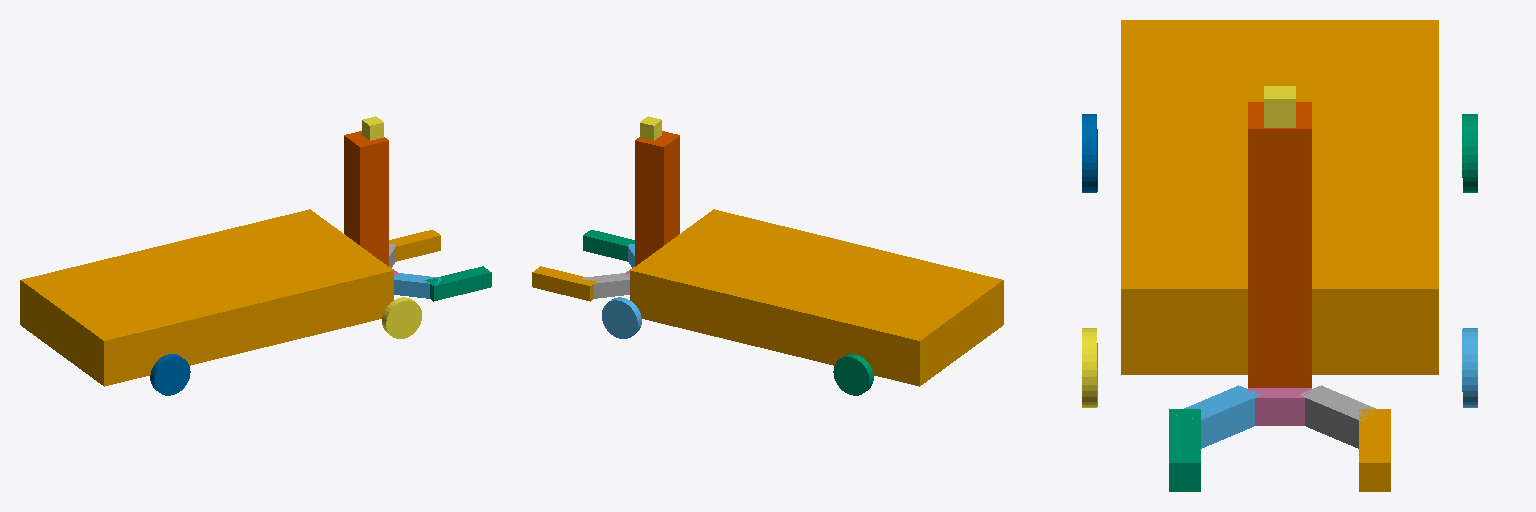
--- Facts derived from the render (not from the file) ---
3 views of the same robot in one strip: view 1: azimuth 30°, elevation 25°; view 2: azimuth 150°, elevation 25°; view 3: azimuth 270°, elevation 25° (orthographic).
Robot: the_robot — 13 links, 12 joints (3 revolute, 5 continuous, 1 prismatic, 3 fixed); root link the_robot__chassis; default pose: all joints at 0.
Links seen in each view (by area): view 1: the_robot__chassis, the_robot__riser, the_robot__right_finger_tip, the_robot__right_wheel_rear, the_robot__right_wheel, the_robot__left_finger_tip, the_robot__right_finger; view 2: the_robot__chassis, the_robot__riser, the_robot__left_finger_tip, the_robot__left_wheel_rear, the_robot__left_wheel, the_robot__right_finger_tip, the_robot__left_finger; view 3: the_robot__chassis, the_robot__riser, the_robot__right_finger_tip, the_robot__left_finger_tip, the_robot__left_finger, the_robot__right_finger, the_robot__palm, the_robot__camera_link, the_robot__right_wheel, the_robot__left_wheel, the_robot__left_wheel_rear, the_robot__right_wheel_rear.
Boxes of the visible links, x1,y1,x2,y2 form: the_robot__chassis: (20,209,393,386); the_robot__riser: (344,131,388,266); the_robot__right_finger_tip: (425,266,491,301); the_robot__right_wheel_rear: (150,354,190,395); the_robot__right_wheel: (382,297,421,338); the_robot__left_finger_tip: (389,230,440,261); the_robot__right_finger: (394,273,441,298); the_robot__chassis: (630,209,1003,386); the_robot__riser: (635,131,679,266); the_robot__left_finger_tip: (532,266,598,301); the_robot__left_wheel_rear: (833,354,873,395); the_robot__left_wheel: (602,297,641,338); the_robot__right_finger_tip: (583,230,634,261); the_robot__left_finger: (582,273,629,298); the_robot__chassis: (1121,20,1438,374); the_robot__riser: (1248,102,1311,387); the_robot__right_finger_tip: (1169,409,1200,491); the_robot__left_finger_tip: (1359,409,1390,491); the_robot__left_finger: (1300,385,1375,448); the_robot__right_finger: (1176,385,1260,448); the_robot__palm: (1248,388,1311,425); the_robot__camera_link: (1264,86,1295,127); the_robot__right_wheel: (1082,328,1097,407); the_robot__left_wheel: (1462,328,1477,407); the_robot__left_wheel_rear: (1462,114,1477,192); the_robot__right_wheel_rear: (1082,114,1097,192).
Bounding box of the posed robot: 2.76 × 1.25 × 1.15 m (x, y, z).
Geometry: primitives only (box / cylinder / sphere), no mesh files.

URDF robot description (the_robot):
<?xml version="1.0" encoding="utf-8"?>
<!-- =================================================================================== -->
<!-- |    This document was autogenerated by xacro from modelNOUV.xacro                | -->
<!-- |    EDITING THIS FILE BY HAND IS NOT RECOMMENDED                                 | -->
<!-- =================================================================================== -->
<robot name="the_robot">
  <!-- <xacro:include filename="$(find robot-face-recognition-project)/the_robot_description/urdf/model_mobile_base.xacro"/> -->
  <!-- ros_control plugin -->
  <gazebo>
    <plugin filename="libgazebo_ros_control.so" name="gazebo_ros_control">
      <!--<robotNamespace>/the_robot</robotNamespace>-->
      <!--<robotParam>/the_robot/robot_description</robotParam>-->
      <!--<robotSimType>gazebo_ros_control/DefaultRobotHWSim</robotSimType>-->
    </plugin>
  </gazebo>
  <!--<gazebo reference="the_robot__chassis">
    <material>Gazebo/Orange</material>
  </gazebo>
  <gazebo reference="the_robot__left_wheel">
    <material>Gazebo/Orange</material>
  </gazebo>
  <gazebo reference="the_robot__right_wheel">
    <material>Gazebo/Orange</material>
  </gazebo>-->
  <gazebo reference="the_robot__right_wheel_hinge">
    <material>Gazebo/Orange</material>
  </gazebo>
  <gazebo reference="the_robot__riser">
    <material>Gazebo/Orange</material>
  </gazebo>
  <gazebo reference="the_robot__palm">
    <material>Gazebo/Orange</material>
  </gazebo>
  <gazebo reference="the_robot__left_finger">
    <material>Gazebo/Orange</material>
  </gazebo>
  <gazebo reference="the_robot__left_finger_tip">
    <material>Gazebo/Orange</material>
  </gazebo>
  <gazebo reference="the_robot__right_finger">
    <material>Gazebo/Orange</material>
  </gazebo>
  <gazebo reference="the_robot__right_finger_tip">
    <material>Gazebo/Orange</material>
  </gazebo>
  <!-- camera -->
  <gazebo reference="the_robot__camera_link">
    <sensor name="camera1" type="camera">
      <update_rate>30.0</update_rate>
      <camera name="head">
        <horizontal_fov>1.3962634</horizontal_fov>
        <image>
          <width>800</width>
          <height>800</height>
          <format>R8G8B8</format>
        </image>
        <clip>
          <near>0.02</near>
          <far>300</far>
        </clip>
        <noise>
          <type>gaussian</type>
          <!-- Noise is sampled independently per pixel on each frame.
               That pixel's noise value is added to each of its color
               channels, which at that point lie in the range [0,1]. -->
          <mean>0.0</mean>
          <stddev>0.007</stddev>
        </noise>
      </camera>
      <plugin filename="libgazebo_ros_camera.so" name="camera_controller">
        <alwaysOn>true</alwaysOn>
        <updateRate>0.0</updateRate>
        <cameraName>the_robot_camera/camera1</cameraName>
        <imageTopicName>image_raw</imageTopicName>
        <cameraInfoTopicName>camera_info</cameraInfoTopicName>
        <frameName>camera_link</frameName>
        <hackBaseline>0.07</hackBaseline>
        <distortionK1>0.0</distortionK1>
        <distortionK2>0.0</distortionK2>
        <distortionK3>0.0</distortionK3>
        <distortionT1>0.0</distortionT1>
        <distortionT2>0.0</distortionT2>
      </plugin>
    </sensor>
  </gazebo>
  <!-- hokuyo -->
  <gazebo reference="the_robot__hokuyo_link">
    <sensor name="head_hokuyo_sensor" type="ray">
      <pose>1.3 0 0.3 0 0 0</pose>
      <visualize>true</visualize>
      <update_rate>40</update_rate>
      <ray>
        <scan>
          <horizontal>
            <samples>720</samples>
            <resolution>1</resolution>
            <min_angle>-1.570796</min_angle>
            <max_angle>1.570796</max_angle>
          </horizontal>
        </scan>
        <range>
          <min>0.10</min>
          <max>30.0</max>
          <resolution>0.01</resolution>
        </range>
        <noise>
          <type>gaussian</type>
          <!-- Noise parameters based on published spec for Hokuyo laser
               achieving "+-30mm" accuracy at range < 10m.  A mean of 0.0m and
               stddev of 0.01m will put 99.7% of samples within 0.03m of the true
               reading. -->
          <mean>0.0</mean>
          <stddev>0.01</stddev>
        </noise>
      </ray>
      <plugin filename="libgazebo_ros_laser.so" name="gazebo_ros_head_hokuyo_controller">
        <topicName>/the_robot/laser_scan</topicName>
        <frameName>hokuyo_link</frameName>
      </plugin>
    </sensor>
  </gazebo>
  <!--<gazebo>
    <plugin name="differential_drive_controller" filename="libgazebo_ros_diff_drive.so">

  <alwaysOn>true</alwaysOn>
  <updateRate>100</updateRate>
  <leftJoint>the_robot__left_wheel_hinge</leftJoint>
  <rightJoint>the_robot__right_wheel_hinge</rightJoint>
  <wheelSeparation>0.39</wheelSeparation>
  <wheelDiameter>0.15</wheelDiameter>
  <torque>5</torque>
  <commandTopic>/the_robot/cmd_vel</commandTopic>
   <odometryTopic>odom</odometryTopic>
   <odometryFrame>odom</odometryFrame>
  <robotBaseFrame>the_robot__chassis</robotBaseFrame>
  <publishWheelTF>true</publishWheelTF>
  <publishWheelJointState>true</publishWheelJointState>
  <rosDebugLevel>na</rosDebugLevel>
  <publishOdomTF>true</publishOdomTF>
  <wheelAcceleration>10</wheelAcceleration>
  <wheelTorque>5</wheelTorque>
  <odometrySource>world</odometrySource>
  <publishTf>1</publishTf>



    </plugin>

  </gazebo>-->
  <gazebo>
    <plugin filename="libgazebo_ros_skid_steer_drive.so" name="skid_steer_drive_controller">
      <alwaysOn>true</alwaysOn>
      <updateRate>100</updateRate>
      <!--<leftJoint>the_robot__left_wheel_hinge</leftJoint>
  <rightJoint>the_robot__right_wheel_hinge</rightJoint>-->
      <leftFrontJoint>the_robot__left_wheel_hinge</leftFrontJoint>
      <rightFrontJoint>the_robot__right_wheel_hinge</rightFrontJoint>
      <leftRearJoint>the_robot__left_wheel_rear_hinge</leftRearJoint>
      <rightRearJoint>the_robot__right_wheel_rear_hinge</rightRearJoint>
      <wheelSeparation>0.39</wheelSeparation>
      <wheelDiameter>0.15</wheelDiameter>
      <torque>5</torque>
      <commandTopic>/the_robot/cmd_vel</commandTopic>
      <odometryTopic>odom</odometryTopic>
      <odometryFrame>odom</odometryFrame>
      <robotBaseFrame>the_robot__chassis</robotBaseFrame>
      <publishWheelTF>true</publishWheelTF>
      <publishWheelJointState>true</publishWheelJointState>
      <rosDebugLevel>na</rosDebugLevel>
      <publishOdomTF>true</publishOdomTF>
      <wheelAcceleration>10</wheelAcceleration>
      <wheelTorque>5</wheelTorque>
      <odometrySource>world</odometrySource>
      <publishTf>1</publishTf>
    </plugin>
  </gazebo>
  <!--<gazebo>
    <plugin name="skid_steer_drive_controller" filename="libgazebo_ros_skid_steer_drive.so">
      <updateRate>100.0</updateRate>
      <robotNamespace>/</robotNamespace>
      <leftFrontJoint>the_robot__left_wheel_hinge</leftFrontJoint>
      <rightFrontJoint>the_robot__right_wheel_hinge</rightFrontJoint>
      <leftRearJoint>the_robot__left_wheel_rear_hinge</leftRearJoint>
      <rightRearJoint>the_robot__right_wheel_rear_hinge</rightRearJoint>
      <wheelSeparation>0.5</wheelSeparation>
      <wheelDiameter>0.2</wheelDiameter>
      <robotBaseFrame>the_robot__chassis</robotBaseFrame>
      <torque>20</torque>
      <topicName>cmd_vel</topicName>
      <broadcastTF>true</broadcastTF>
    </plugin>
  </gazebo>-->
  <material name="black">
    <color rgba="0.0 0.0 0.0 1.0"/>
  </material>
  <material name="blue">
    <color rgba="0.0 0.0 0.8 1.0"/>
  </material>
  <material name="green">
    <color rgba="0.0 0.8 0.0 1.0"/>
  </material>
  <material name="grey">
    <color rgba="0.2 0.2 0.2 1.0"/>
  </material>
  <material name="orange">
    <color rgba="1.0 0.423529411765 0.0392156862745 1.0"/>
  </material>
  <material name="brown">
    <color rgba="0.870588235294 0.811764705882 0.764705882353 1.0"/>
  </material>
  <material name="red">
    <color rgba="0.8 0.0 0.0 1.0"/>
  </material>
  <material name="white">
    <color rgba="1.0 1.0 1.0 1.0"/>
  </material>
  <!-- Size of square 'camera' box -->
  <joint name="the_robot__left_wheel_hinge" type="continuous">
    <!--changement, avant c'etait "fixed" au lieu de "revolute"-->
    <parent link="the_robot__chassis"/>
    <child link="the_robot__left_wheel"/>
    <origin rpy="0     1.5707 1.5707" xyz="0.79999 0.56999 0.12499"/>
    <!--<origin rpy="0     1.5707 1.5707" xyz="0.0 0.56999 0.12499"/>-->
    <axis xyz="9.e-05 9.e-05 1.e+00"/>
    <!--<axis xyz="0.0 0.0 0.0"/>-->
    <limit effort="0.0" lower="0.0" upper="0.0" velocity="0.0"/>
    <!--<limit effort="300" lower="-0.5" upper="0.5" velocity="12"/>-->
  </joint>
  <joint name="the_robot__left_wheel_rear_hinge" type="continuous">
    <!--changement, avant c'etait "fixed" au lieu de "revolute"-->
    <parent link="the_robot__chassis"/>
    <child link="the_robot__left_wheel_rear"/>
    <!--<origin rpy="0     1.5707 1.5707" xyz="0.79999 0.56999 0.12499"/>-->
    <origin rpy="0     1.5707 1.5707" xyz="-0.79999 0.56999 0.12499"/>
    <axis xyz="9.e-05 9.e-05 1.e+00"/>
    <!--<axis xyz="0.0 0.0 0.0"/>-->
    <limit effort="0.0" lower="0.0" upper="0.0" velocity="0.0"/>
    <!--<limit effort="300" lower="-0.5" upper="0.5" velocity="12"/>-->
  </joint>
  <!--<transmission name="left_wheel_transmission">
  <type>transmission_interface/SimpleTransmission</type>
  <joint name="the_robot__left_wheel_hinge">
    <hardwareInterface>hardware_interface/VelocityJointInterface</hardwareInterface>
  </joint>
  <actuator name="left_wheel_actuator">
    <mechanicalReduction>7</mechanicalReduction>
    <hardwareInterface>VelocityJointInterface</hardwareInterface>
  </actuator>
</transmission>-->
  <!--<transmission name="tranANC">
    <type>transmission_interface/SimpleTransmission</type>
    <joint name="the_robot__left_wheel_hinge">
      <hardwareInterface>hardware_interface/EffortJointInterface</hardwareInterface>
    </joint>
    <actuator name="motorANC">
      <hardwareInterface>hardware_interface/EffortJointInterface</hardwareInterface>
      <mechanicalReduction>1</mechanicalReduction>
    </actuator>
  </transmission>-->
  <joint name="the_robot__right_wheel_hinge" type="continuous">
    <!--changement, avant c'etait "fixed au lieu de "revolute"-->
    <parent link="the_robot__chassis"/>
    <child link="the_robot__right_wheel"/>
    <origin rpy="0     1.5707 1.5707" xyz="0.8     -0.56999  0.125"/>
    <!--<origin rpy="0     1.5707 1.5707" xyz="0.0     -0.56999  0.125"/>-->
    <axis xyz="9.e-05 9.e-05 1.e+00"/>
    <!--<axis xyz="0.0 0.0 0.0"/>-->
    <limit effort="0.0" lower="0.0" upper="0.0" velocity="0.0"/>
  </joint>
  <joint name="the_robot__right_wheel_rear_hinge" type="continuous">
    <!--changement, avant c'etait "fixed au lieu de "revolute"-->
    <parent link="the_robot__chassis"/>
    <child link="the_robot__right_wheel_rear"/>
    <!--<origin rpy="0     1.5707 1.5707" xyz="0.8     -0.56999  0.125"/>-->
    <origin rpy="0     1.5707 1.5707" xyz="-0.8     -0.56999  0.125"/>
    <axis xyz="9.e-05 9.e-05 1.e+00"/>
    <!--<axis xyz="0.0 0.0 0.0"/>-->
    <limit effort="0.0" lower="0.0" upper="0.0" velocity="0.0"/>
  </joint>
  <!--<transmission name="right_wheel_transmission">
  <type>transmission_interface/SimpleTransmission</type>
  <joint name="the_robot__right_wheel_hinge">
    <hardwareInterface>hardware_interface/VelocityJointInterface</hardwareInterface>  
  </joint>
  <actuator name="right_wheel_actuator">
    <mechanicalReduction>7</mechanicalReduction>
    <hardwareInterface>VelocityJointInterface</hardwareInterface>
  </actuator>
</transmission>-->
  <!--<joint name="the_robot__riser_hinge" type="continuous">
    <parent link="the_robot__chassis"/>
    <child link="the_robot__riser"/>
    <origin rpy="0 0 0" xyz="2.04999 0      0.47"/>
    <axis xyz="0 1 0"/>
    <limit effort="0.0" lower="-0.8" upper="0.8" velocity="0.0"/>
  </joint>

  <joint name="the_robot__chassis-riser_joint" type="fixed">
    <parent link="the_robot__chassis"/>
    <child link="the_robot__riser"/>
    <origin rpy="0 0 0" xyz="2.04999 0      0.47"/>
    <axis xyz="0 1 0"/>
    <!-<limit effort="0.0" lower="-0.8" upper="0.8" velocity="0.0"/>->
    <!-<origin rpy="0 0 0" xyz="1.02499 0      0.5"/>
    <axis xyz="0 0 0"/>
    <limit effort="0" lower="0" upper="0" velocity="0"/>->
  </joint>-->
  <joint name="the_robot__palm_left_finger" type="continuous">
    <parent link="the_robot__palm"/>
    <child link="the_robot__left_finger"/>
    <origin rpy="0       0      -0.78539" xyz="0.1 0.2 0"/>
    <axis xyz="0 0 1"/>
    <limit effort="1000.0" lower="-0.8" upper="0.8" velocity="1000.0"/>
  </joint>
  <transmission name="the_robot__palm_left_finger_tran">
    <type>transmission_interface/SimpleTransmission</type>
    <joint name="the_robot__palm_left_finger">
      <hardwareInterface>hardware_interface/EffortJointInterface</hardwareInterface>
    </joint>
    <actuator name="the_robot__palm_left_finger_motor">
      <hardwareInterface>hardware_interface/EffortJointInterface</hardwareInterface>
      <mechanicalReduction>1</mechanicalReduction>
    </actuator>
  </transmission>
  <joint name="the_robot__left_finger_tip_joint" type="revolute">
    <parent link="the_robot__left_finger"/>
    <child link="the_robot__left_finger_tip"/>
    <origin rpy="0      0      2.35609" xyz="0.09616 0.23758 0"/>
    <axis xyz="0 0 1"/>
    <limit effort="1000.0" lower="-0.8" upper="0.8" velocity="1000.0"/>
  </joint>
  <transmission name="the_robot__left_finger_tip_joint_tran">
    <type>transmission_interface/SimpleTransmission</type>
    <joint name="the_robot__left_finger_tip_joint">
      <hardwareInterface>hardware_interface/EffortJointInterface</hardwareInterface>
    </joint>
    <actuator name="the_robot__left_finger_tip_joint_motor">
      <hardwareInterface>hardware_interface/EffortJointInterface</hardwareInterface>
      <mechanicalReduction>1</mechanicalReduction>
    </actuator>
  </transmission>
  <joint name="the_robot__palm_right_finger" type="revolute">
    <parent link="the_robot__palm"/>
    <child link="the_robot__right_finger"/>
    <origin rpy="0      0      0.78539" xyz="0.1 -0.2  0"/>
    <axis xyz="0 0 1"/>
    <limit effort="1000.0" lower="-0.8" upper="0.8" velocity="1000.0"/>
  </joint>
  <transmission name="the_robot__palm_right_finger_tran">
    <type>transmission_interface/SimpleTransmission</type>
    <joint name="the_robot__palm_right_finger">
      <hardwareInterface>hardware_interface/EffortJointInterface</hardwareInterface>
    </joint>
    <actuator name="the_robot__palm_right_finger_motor">
      <hardwareInterface>hardware_interface/EffortJointInterface</hardwareInterface>
      <mechanicalReduction>1</mechanicalReduction>
    </actuator>
  </transmission>
  <joint name="the_robot__right_finger_tip_joint" type="revolute">
    <parent link="the_robot__right_finger"/>
    <child link="the_robot__right_finger_tip"/>
    <origin rpy="0      0      0.78531" xyz="0.09616 -0.23758  0"/>
    <axis xyz="0 0 1"/>
    <limit effort="1000.0" lower="-0.8" upper="0.8" velocity="1000.0"/>
  </joint>
  <transmission name="the_robot__right_finger_tip_joint_tran">
    <type>transmission_interface/SimpleTransmission</type>
    <joint name="the_robot__right_finger_tip_joint">
      <hardwareInterface>hardware_interface/EffortJointInterface</hardwareInterface>
    </joint>
    <actuator name="the_robot__right_finger_tip_joint_motor">
      <hardwareInterface>hardware_interface/EffortJointInterface</hardwareInterface>
      <mechanicalReduction>1</mechanicalReduction>
    </actuator>
  </transmission>
  <joint name="the_robot__palm_riser" type="prismatic">
    <parent link="the_robot__riser"/>
    <child link="the_robot__palm"/>
    <origin rpy="0 0 0" xyz="0  0   -0.4"/>
    <axis xyz="0 0 1"/>
    <limit effort="1000.0" lower="0.0" upper="0.9" velocity="1000.0"/>
  </joint>
  <transmission name="the_robot__palm_riser_tran">
    <type>transmission_interface/SimpleTransmission</type>
    <joint name="the_robot__palm_riser">
      <hardwareInterface>hardware_interface/EffortJointInterface</hardwareInterface>
    </joint>
    <actuator name="the_robot__palm_riser_motor">
      <hardwareInterface>hardware_interface/EffortJointInterface</hardwareInterface>
      <mechanicalReduction>1</mechanicalReduction>
    </actuator>
  </transmission>
  <gripper name="simple_gripper">
    <grasp_check>
      <detach_steps>40</detach_steps>
      <attach_steps>20</attach_steps>
      <min_contact_count>2</min_contact_count>
    </grasp_check>
    <gripper_link>the_robot__right_finger</gripper_link>
    <gripper_link>the_robot__right_finger_tip</gripper_link>
    <gripper_link>the_robot__left_finger</gripper_link>
    <gripper_link>the_robot__left_finger_tip</gripper_link>
    <palm_link>the_robot__palm</palm_link>
  </gripper>
  <joint name="the_robot__camera_joint" type="fixed">
    <parent link="the_robot__riser"/>
    <child link="the_robot__camera_link"/>
    <origin rpy="0 0 0" xyz="-0.08  0     0.60"/>
    <axis xyz="0 0 0"/>
    <limit effort="0" lower="0" upper="0" velocity="0"/>
  </joint>
  <joint name="the_robot__arm_gripper_joint" type="fixed">
    <parent link="the_robot__chassis"/>
    <child link="the_robot__riser"/>
    <origin rpy="0 0 0" xyz="1.02499 0      0.5"/>
    <!--<origin rpy="0 0 0" xyz="0.25 0 0.5"/>-->
    <axis xyz="0 0 0"/>
    <limit effort="0" lower="0" upper="0" velocity="0"/>
  </joint>
  <joint name="the_robot__hokuyo_joint" type="fixed">
    <parent link="the_robot__palm"/>
    <child link="the_robot__hokuyo_link"/>
    <origin rpy="0 0 0" xyz="0  0    0.2"/>
    <axis xyz="0 0 0"/>
    <limit effort="0" lower="0" upper="0" velocity="0"/>
  </joint>
  <link name="the_robot__chassis">
    <inertial>
      <mass value="1.0"/>
      <origin rpy="0 0 0" xyz="-0.1  0  -0.1"/>
      <inertia ixx="0.5" ixy="0" ixz="0" iyy="1.0" iyz="0" izz="0.1"/>
    </inertial>
    <collision name="the_robot__collision">
      <!--<origin rpy="0 0 0" xyz="0   0   0.25"/>-->
      <origin rpy="0 0 0" xyz="-0.2   0   0.25"/>
      <geometry>
        <box size="2 1 0.3"/>
        <!--<box size="0.5 1 0.3"/>-->
      </geometry>
    </collision>
    <!--<origin rpy="0 0 0" xyz="-0.8    0     0.125"/>-->
    <!--<collision name="the_robot__caster_collision">
      <origin rpy="0 0 0" xyz="-1    0     0.125"/>
      <geometry>
        <sphere radius=".125"/>
      </geometry>
    </collision>-->
    <visual name="the_robot__visual1">
      <origin rpy="0 0 0" xyz="-0.2   0   0.25"/>
      <geometry>
        <box size="2 1 0.3"/>
      </geometry>
    </visual>
    <!--<visual name="the_robot__caster_visual">
      <origin rpy="0 0 0" xyz="-1    0     0.125"/>
      <geometry>
        <sphere radius=".125"/>
      </geometry>
    </visual>-->
  </link>
  <link name="the_robot__left_wheel">
    <inertial>
      <mass value="0.5"/>
      <origin rpy="0 0 0" xyz="0 0 0"/>
      <inertia ixx="0" ixy="0" ixz="0" iyy="0" iyz="0" izz="0"/>
    </inertial>
    <collision name="the_robot__collision">
      <origin rpy="0 0 0" xyz="0   0   0.03"/>
      <geometry>
        <cylinder length=".05" radius=".125"/>
      </geometry>
    </collision>
    <visual name="the_robot__visual2">
      <origin rpy="0 0 0" xyz="0   0   0.03"/>
      <geometry>
        <cylinder length=".05" radius=".125"/>
      </geometry>
    </visual>
  </link>
  <link name="the_robot__left_wheel_rear">
    <inertial>
      <mass value="0.5"/>
      <origin rpy="0 0 0" xyz="0 0 0"/>
      <inertia ixx="0" ixy="0" ixz="0" iyy="0" iyz="0" izz="0"/>
    </inertial>
    <collision name="the_robot__collision">
      <origin rpy="0 0 0" xyz="0   0   0.03"/>
      <geometry>
        <cylinder length=".05" radius=".125"/>
      </geometry>
    </collision>
    <visual name="the_robot__visual22">
      <origin rpy="0 0 0" xyz="0   0   0.03"/>
      <geometry>
        <cylinder length=".05" radius=".125"/>
      </geometry>
    </visual>
  </link>
  <link name="the_robot__right_wheel">
    <inertial>
      <mass value="0.5"/>
      <origin rpy="0 0 0" xyz="0 0 0"/>
      <inertia ixx="0" ixy="0" ixz="0" iyy="0" iyz="0" izz="0"/>
    </inertial>
    <collision name="the_robot__collision">
      <origin rpy="0 0 0" xyz="0    0   -0.03"/>
      <geometry>
        <cylinder length=".05" radius=".125"/>
      </geometry>
    </collision>
    <visual name="the_robot__visual3">
      <origin rpy="0 0 0" xyz="0    0   -0.03"/>
      <geometry>
        <cylinder length=".05" radius=".125"/>
      </geometry>
    </visual>
  </link>
  <link name="the_robot__right_wheel_rear">
    <inertial>
      <mass value="0.5"/>
      <origin rpy="0 0 0" xyz="0 0 0"/>
      <inertia ixx="0" ixy="0" ixz="0" iyy="0" iyz="0" izz="0"/>
    </inertial>
    <collision name="the_robot__collision">
      <origin rpy="0 0 0" xyz="0    0   -0.03"/>
      <geometry>
        <cylinder length=".05" radius=".125"/>
      </geometry>
    </collision>
    <visual name="the_robot__visual33">
      <origin rpy="0 0 0" xyz="0    0   -0.03"/>
      <geometry>
        <cylinder length=".05" radius=".125"/>
      </geometry>
    </visual>
  </link>
  <link name="the_robot__riser">
    <inertial>
      <mass value="0.2"/>
      <!--AJOUT POUR VOIR LE RISER DANS GAZEBO -->
      <origin rpy="0 0 0" xyz="0 0 0"/>
      <inertia ixx="0" ixy="0" ixz="0" iyy="0" iyz="0" izz="0"/>
    </inertial>
    <collision name="the_robot__collision">
      <origin rpy="0 0 0" xyz="-0.125 0 0.05"/>
      <!--<origin rpy="0 0 0" xyz="-0.975 0 0.05"/>-->
      <geometry>
        <box size="0.2 0.2 1.0"/>
      </geometry>
    </collision>
    <visual name="the_robot__visual4">
      <origin rpy="0 0 0" xyz="-0.125 0 0.05"/>
      <!--<origin rpy="0 0 0" xyz="-0.975 0 0.05"/>-->
      <geometry>
        <box size="0.2 0.2 1.0"/>
      </geometry>
    </visual>
  </link>
  <link name="the_robot__palm">
    <!--<pose>1.175 0.0 0.1 0 0 0</pose>-->
    <inertial>
      <mass value="0.2"/>
      <!--<origin rpy="0 0 0" xyz="0 0 0"/>-->
      <inertia ixx="0" ixy="0" ixz="0" iyy="0" iyz="0" izz="0"/>
    </inertial>
    <collision name="the_robot__collision">
      <!--<origin rpy="0 0 0" xyz="-0.12 0 0.05"/>-->
      <geometry>
        <box size="0.1 0.2 0.1"/>
      </geometry>
    </collision>
    <visual name="the_robot__visual5">
      <!--<origin rpy="0 0 0" xyz="-0.12 0 0.05"/>-->
      <!--<origin rpy="0 0 0" xyz="0 0 0"/>-->
      <geometry>
        <box size="0.1 0.2 0.1"/>
      </geometry>
    </visual>
  </link>
  <link name="the_robot__left_finger">
    <inertial>
      <mass value="0.1"/>
      <!--<origin rpy="0 0 0" xyz="0 0 0"/>-->
      <inertia ixx="0" ixy="0" ixz="0" iyy="0" iyz="0" izz="0"/>
    </inertial>
    <surface>
      <friction>
        <ode>
          <mu>0.1</mu>
          <mu2>0</mu2>
        </ode>
      </friction>
      <contact>
        <ode>
          <max_vel>0.0</max_vel>
        </ode>
      </contact>
    </surface>
    <collision name="left_finger__collision">
      <!--<origin rpy="0 0 0" xyz="0.5 -0.8 0.05"/>-->
      <geometry>
        <box size="0.1 0.3 0.1"/>
      </geometry>
    </collision>
    <visual name="the_robot__visual6">
      <!--<origin rpy="0 0 0" xyz="0.5 -0.8 0.05"/>-->
      <!--<origin rpy="0 0 0" xyz="0 0 0"/>-->
      <geometry>
        <box size="0.1 0.3 0.1"/>
      </geometry>
    </visual>
    <!--<sensor name='my_contact_the_robot__left_finger' type='contact'>
      <contact>
        <collision>the_robot__left_finger_collision</collision>
      </contact>
      <update_rate> 5 </update_rate>
    </sensor>-->
  </link>
  <gazebo reference="the_robot__left_finger">
    <sensor name="my_contact_the_robot__left_finger" type="contact">
      <plugin filename="libcontact.so" name="my_plugin"/>
      <always_on>true</always_on>
      <contact>
        <collision>the_robot__left_finger_fixed_joint_lump__left_finger__collision_collision</collision>
        <!--<collision>__default__</collision>-->
        <!--<collision>the_robot__left_finger_fixed_joint_lump__left_finger__collision_collision</collision>-->
        <topic>__default_topic__</topic>
      </contact>
      <update_rate> 5 </update_rate>
    </sensor>
  </gazebo>
  <link name="the_robot__left_finger_tip">
    <inertial>
      <mass value="0.1"/>
      <!--<origin rpy="0 0 0" xyz="0 0 0"/>-->
      <inertia ixx="0" ixy="0" ixz="0" iyy="0" iyz="0" izz="0"/>
    </inertial>
    <surface>
      <friction>
        <ode>
          <mu>0.1</mu>
          <mu2>0</mu2>
        </ode>
      </friction>
      <contact>
        <ode>
          <max_vel>0.0</max_vel>
        </ode>
      </contact>
    </surface>
    <collision name="the_robot__collision">
      <!--<origin rpy="0 0 0" xyz="0.5 1.15 0"/>-->
      <geometry>
        <box size="0.1 0.4 0.1"/>
      </geometry>
    </collision>
    <visual name="the_robot__visual7">
      <!--<origin rpy="0 0 0" xyz="0.5 1.15 0"/>-->
      <!--<origin rpy="0 0 0" xyz="0 0 0"/>-->
      <geometry>
        <box size="0.1 0.4 0.1"/>
      </geometry>
    </visual>
  </link>
  <link name="the_robot__right_finger">
    <inertial>
      <mass value="0.1"/>
      <!--<origin rpy="0 0 0" xyz="0 0 0"/>-->
      <inertia ixx="0" ixy="0" ixz="0" iyy="0" iyz="0" izz="0"/>
    </inertial>
    <surface>
      <friction>
        <ode>
          <mu>0.1</mu>
          <mu2>0</mu2>
        </ode>
      </friction>
      <contact>
        <ode>
          <max_vel>0.0</max_vel>
        </ode>
      </contact>
    </surface>
    <collision name="the_robot__collision">
      <!--<origin rpy="0 0 0" xyz="-0.8 0.8 0"/>-->
      <geometry>
        <box size="0.1 0.3 0.1"/>
      </geometry>
    </collision>
    <visual name="the_robot__visual8">
      <!--<origin rpy="0 0 0" xyz="-0.8 0.8 0"/>-->
      <geometry>
        <box size="0.1 0.3 0.1"/>
      </geometry>
    </visual>
  </link>
  <link name="the_robot__right_finger_tip">
    <inertial>
      <mass value="0.1"/>
      <!--<origin rpy="0 0 0" xyz="0 0 0"/>-->
      <inertia ixx="0" ixy="0" ixz="0" iyy="0" iyz="0" izz="0"/>
    </inertial>
    <surface>
      <friction>
        <ode>
          <mu>0.1</mu>
          <mu2>0</mu2>
        </ode>
      </friction>
      <contact>
        <ode>
          <max_vel>0.0</max_vel>
        </ode>
      </contact>
    </surface>
    <collision name="the_robot__collision">
      <!--<origin rpy="0 0 0" xyz="0 1.15 0"/>-->
      <geometry>
        <!--<box size="0.1 0.2 0.1"/>-->
        <box size="0.1 0.4 0.1"/>
      </geometry>
    </collision>
    <visual name="the_robot__visual9">
      <!--<origin rpy="0 0 0" xyz="0 1.15 0"/>-->
      <geometry>
        <!--<box size="0.1 0.2 0.1"/>-->
        <box size="0.1 0.4 0.1"/>
      </geometry>
    </visual>
  </link>
  <!--<link name="the_robot__right_finger_tip_extension">
    <inertial>
      <mass value="0.1"/>
      <inertia ixx="0" ixy="0" ixz="0" iyy="0" iyz="0" izz="0"/>
    </inertial>
        <surface>
          <friction>
            <ode>
              <mu>0.1</mu>
              <mu2>0</mu2>
            </ode>
          </friction>
          <contact>
            <ode>
              <max_vel>0.0</max_vel>
            </ode>
          </contact>
        </surface>
    <collision name="the_robot__collision">
      <geometry>
        <box size="0.1 0.2 0.1"/>
      </geometry>
    </collision>
    <visual name="the_robot__visual10">
      <geometry>
        <box size="0.1 0.2 0.1"/>
      </geometry>
    </visual>
  </link>-->
  <link name="the_robot__camera_link">
    <inertial>
      <mass value="0"/>
      <origin rpy="0 0 0" xyz="0 0 0"/>
      <inertia ixx="0" ixy="0" ixz="0" iyy="0" iyz="0" izz="0"/>
    </inertial>
    <collision name="the_robot__collision">
      <origin rpy="0 0 0" xyz="0 0 0"/>
      <geometry>
        <box size="0.1 0.1 0.1"/>
      </geometry>
    </collision>
    <visual name="the_robot__visual10">
      <origin rpy="0 0 0" xyz="0 0 0"/>
      <geometry>
        <box size="0.1 0.1 0.1"/>
      </geometry>
    </visual>
  </link>
  <link name="the_robot__hokuyo_link">
    <inertial>
      <mass value="0"/>
      <origin rpy="0 0 0" xyz="0 0 0"/>
      <inertia ixx="0" ixy="0" ixz="0" iyy="0" iyz="0" izz="0"/>
    </inertial>
  </link>
</robot>
